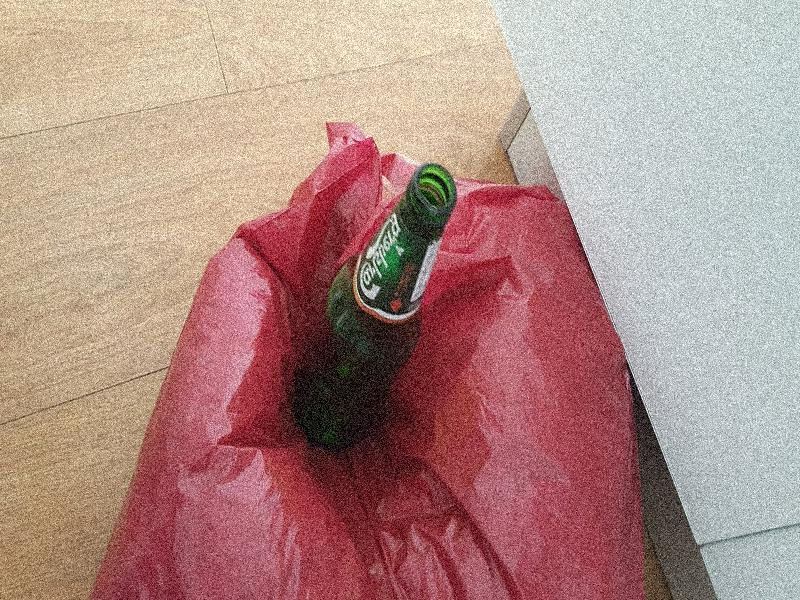Beer: (291, 161, 454, 445)
